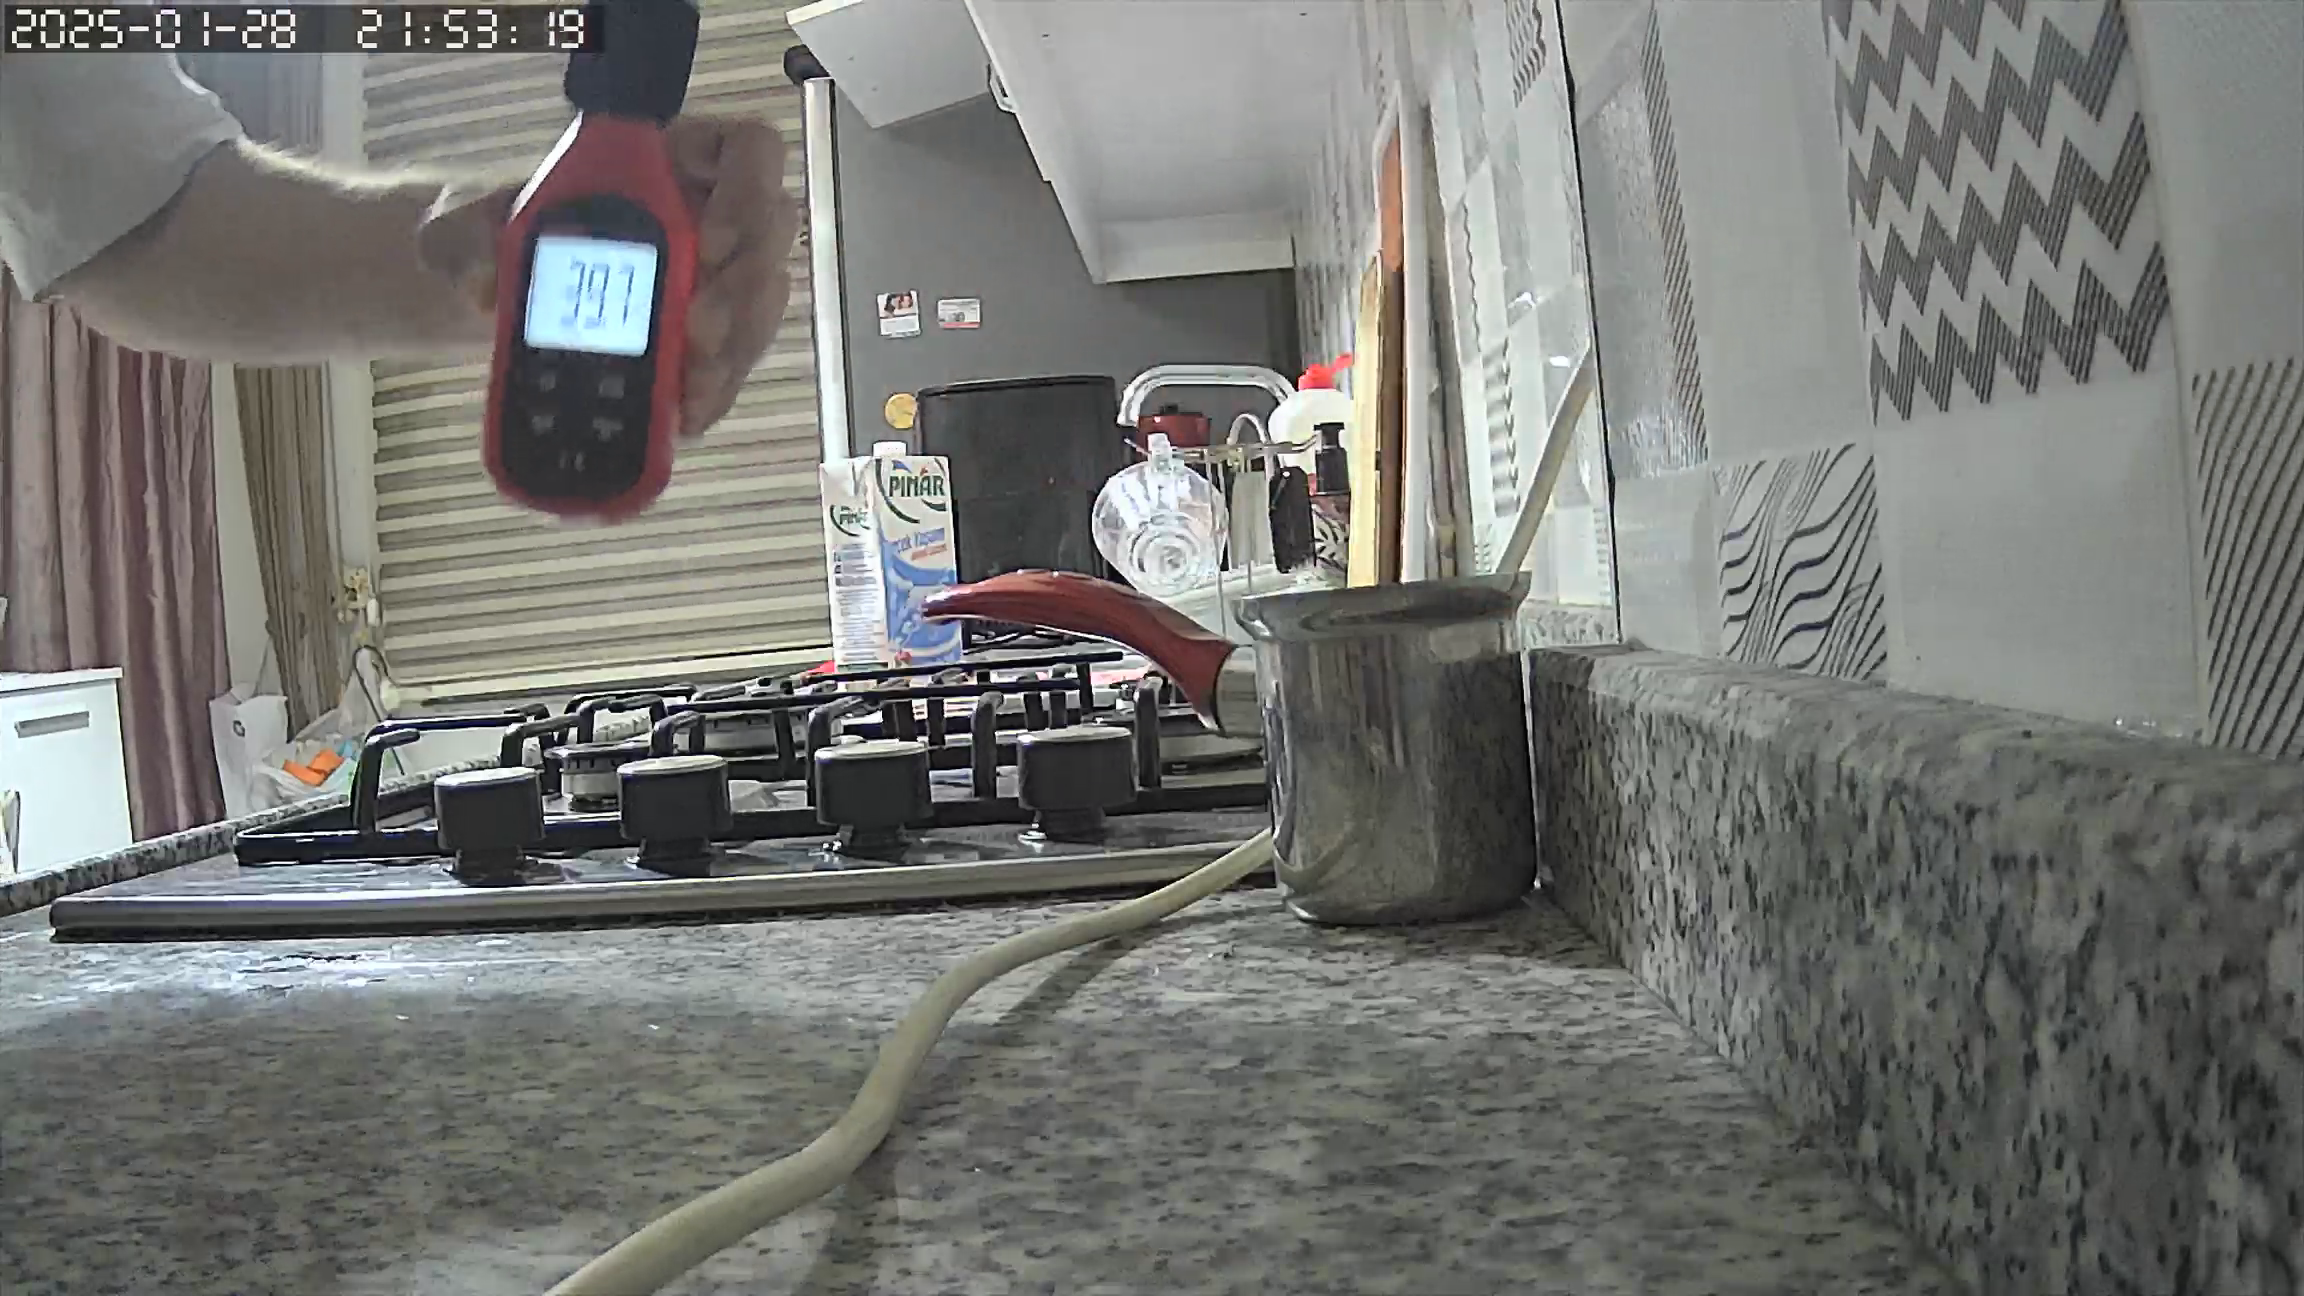screen: (524, 233, 658, 354)
